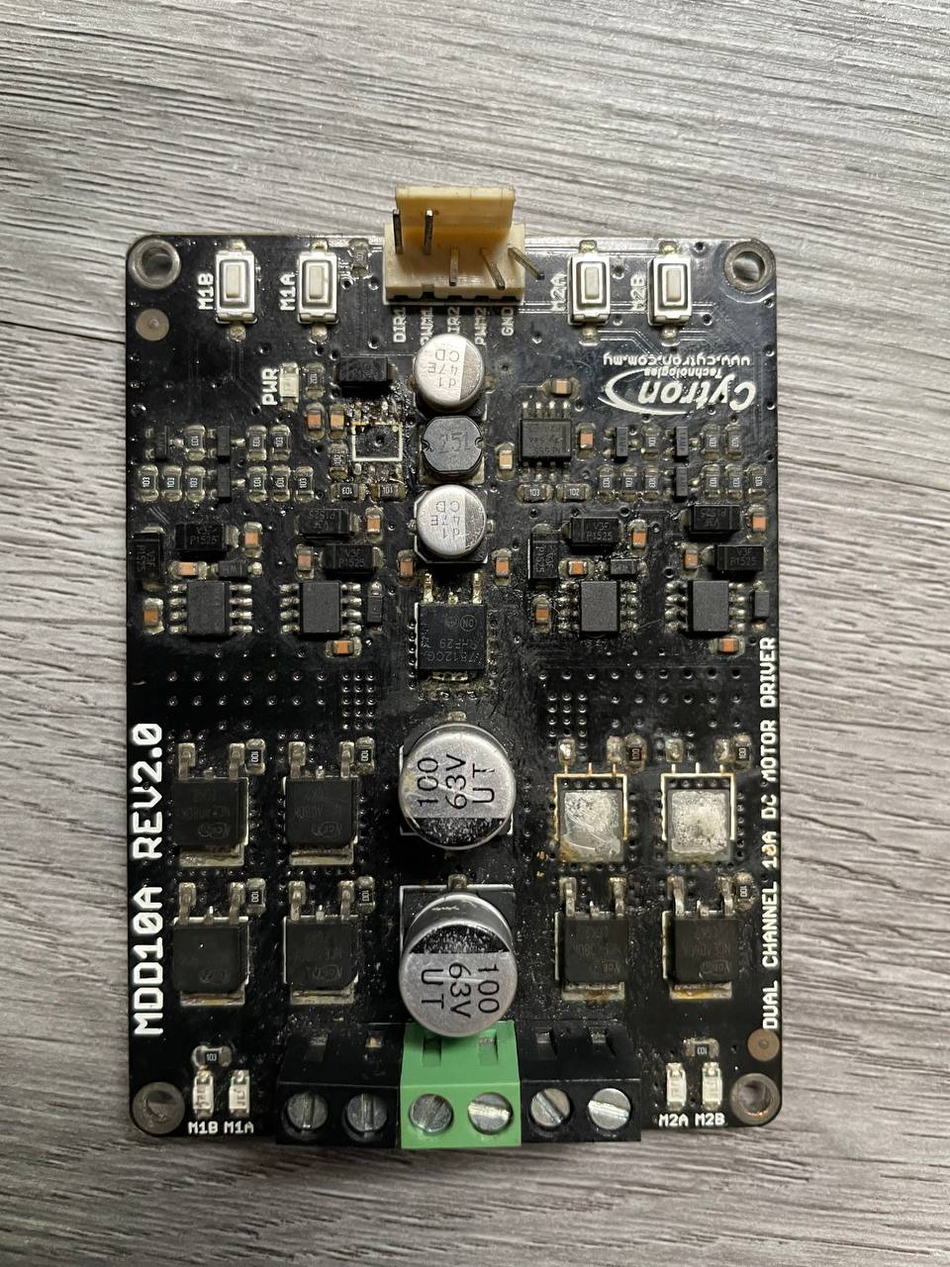bent_pin: (507, 239, 553, 286), (474, 243, 507, 298), (441, 244, 466, 292)
missing_comp: (549, 760, 634, 869), (658, 760, 740, 869), (347, 413, 406, 467)
